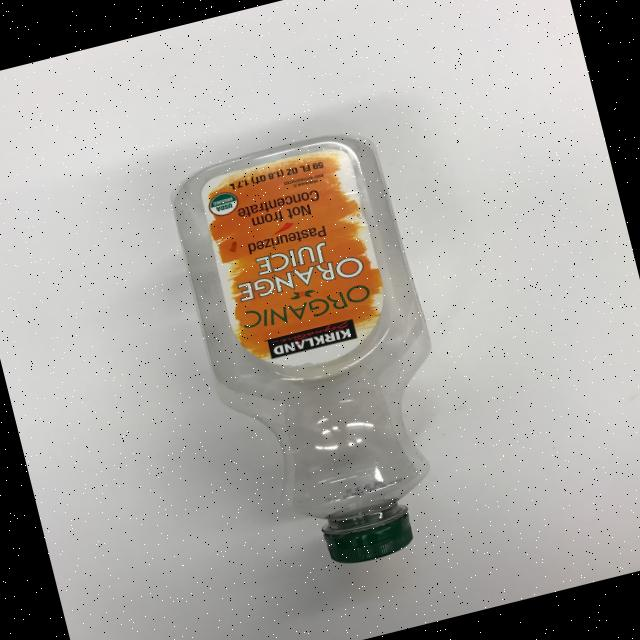plastic: (160, 120, 478, 582)
